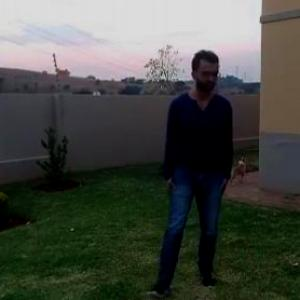follow: (147, 42, 236, 299)
